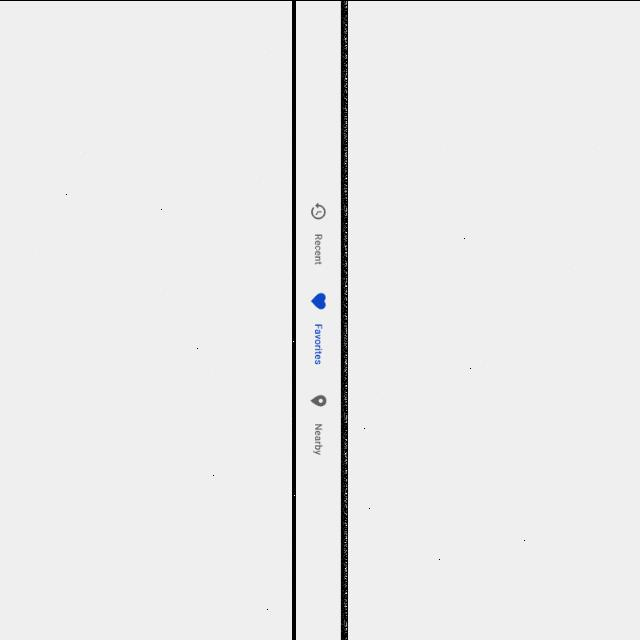QLabel: (313, 322, 323, 364), (312, 422, 324, 454), (314, 233, 322, 265)
VBottomNavigation: (295, 0, 341, 640)
VIcon: (310, 201, 326, 219), (310, 291, 326, 309), (309, 394, 327, 406)
